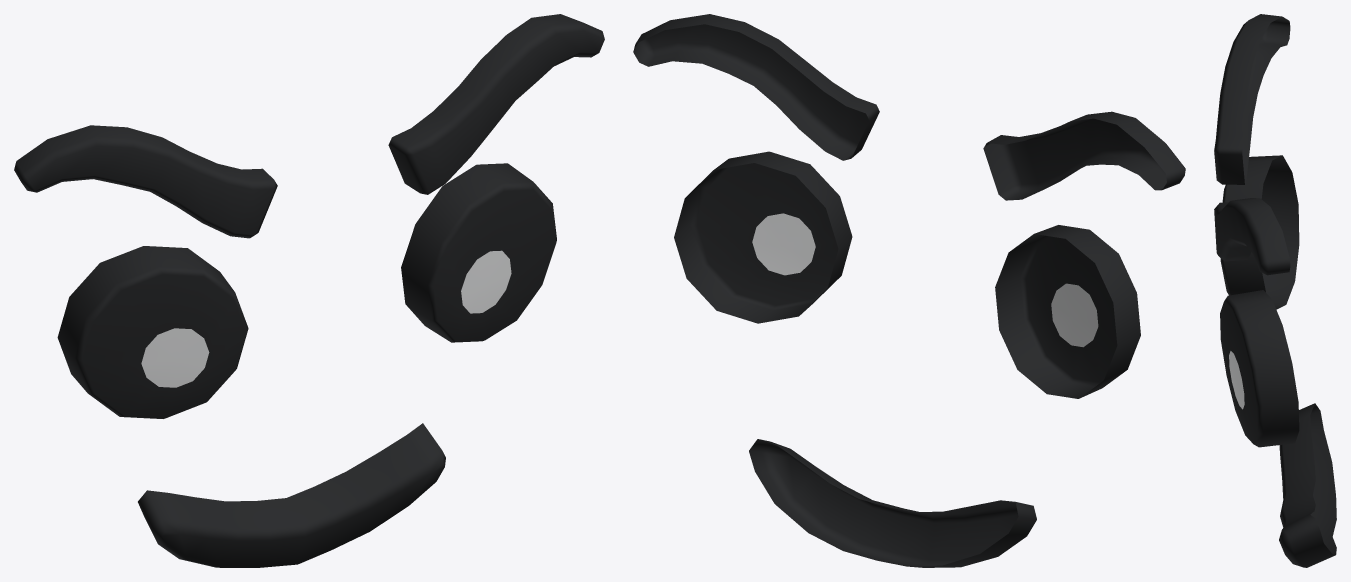
File: Male_Emotion_Evil_02.glb
The picture shows the model from 3 angles, left to right: view 1: azimuth 30°, elevation 25°; view 2: azimuth 150°, elevation 25°; view 3: azimuth 270°, elevation 25°; orthographic projection. The views are drawn at different scales.
Visible parts, largest first — view 1: Male_Emotion_Evil_02; view 2: Male_Emotion_Evil_02; view 3: Male_Emotion_Evil_02.
Part boxes in pixels (<box>): Male_Emotion_Evil_02: <box>14,14,604,567</box>; Male_Emotion_Evil_02: <box>633,14,1185,567</box>; Male_Emotion_Evil_02: <box>1214,14,1336,567</box>.
Size of the model in its own units: 0.2273 by 0.1888 by 0.0484.
1 material, 1 textured.
